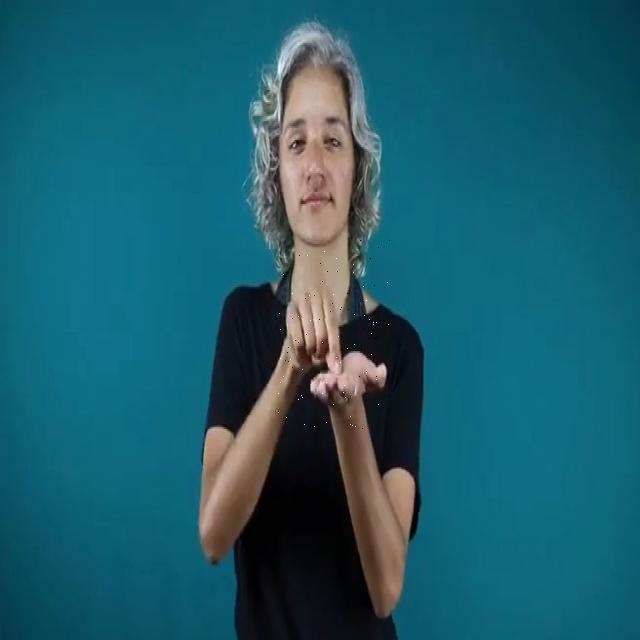chicken: (278, 238, 390, 432)
